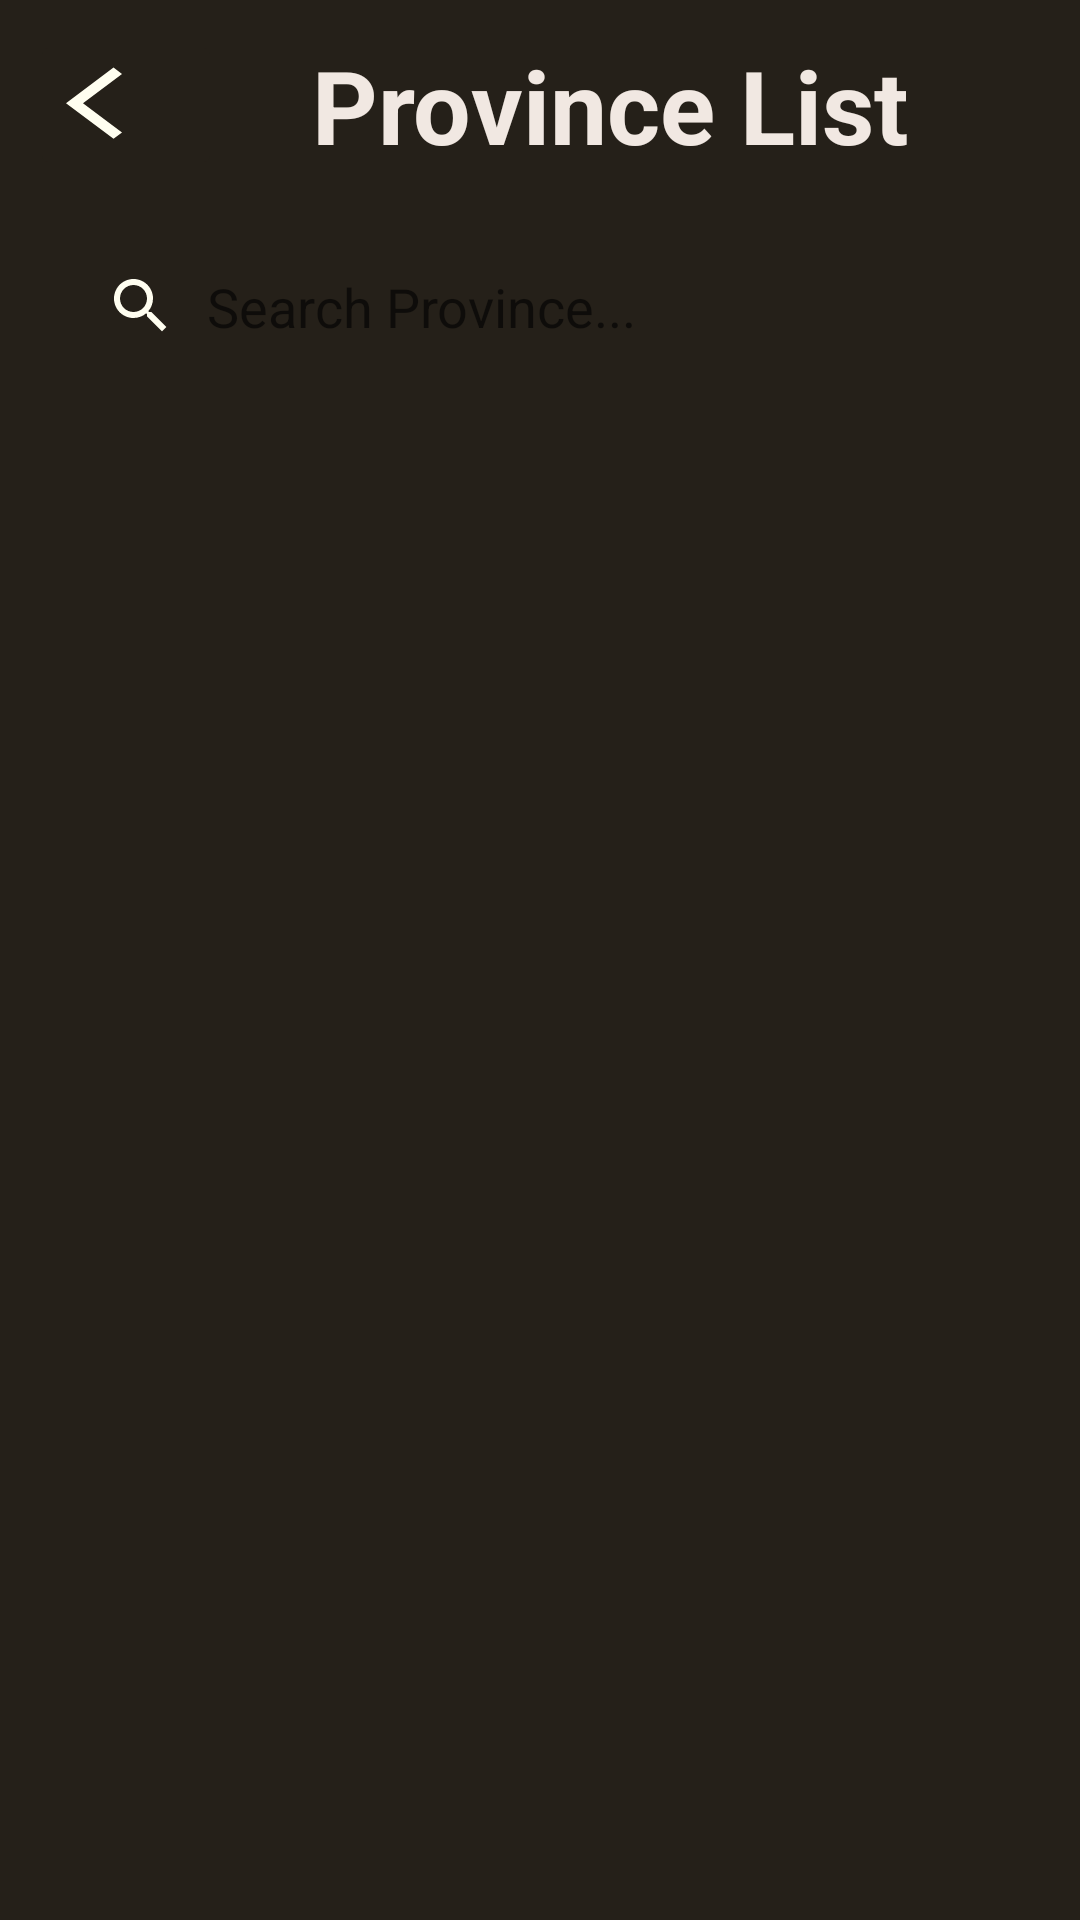

Icons on this 1080 × 1920 Android screen, each with its box as Rect(x1, y1, x2, y2):
arrow back: Rect(66, 67, 122, 139)
